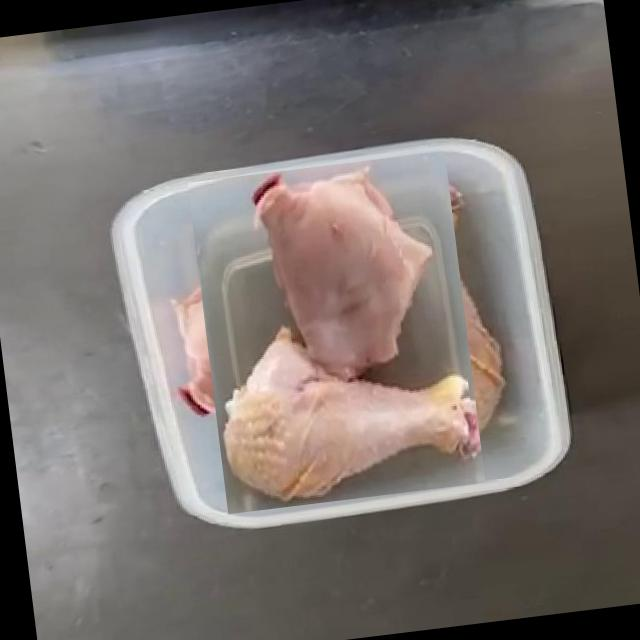chicken: (171, 167, 502, 498)
